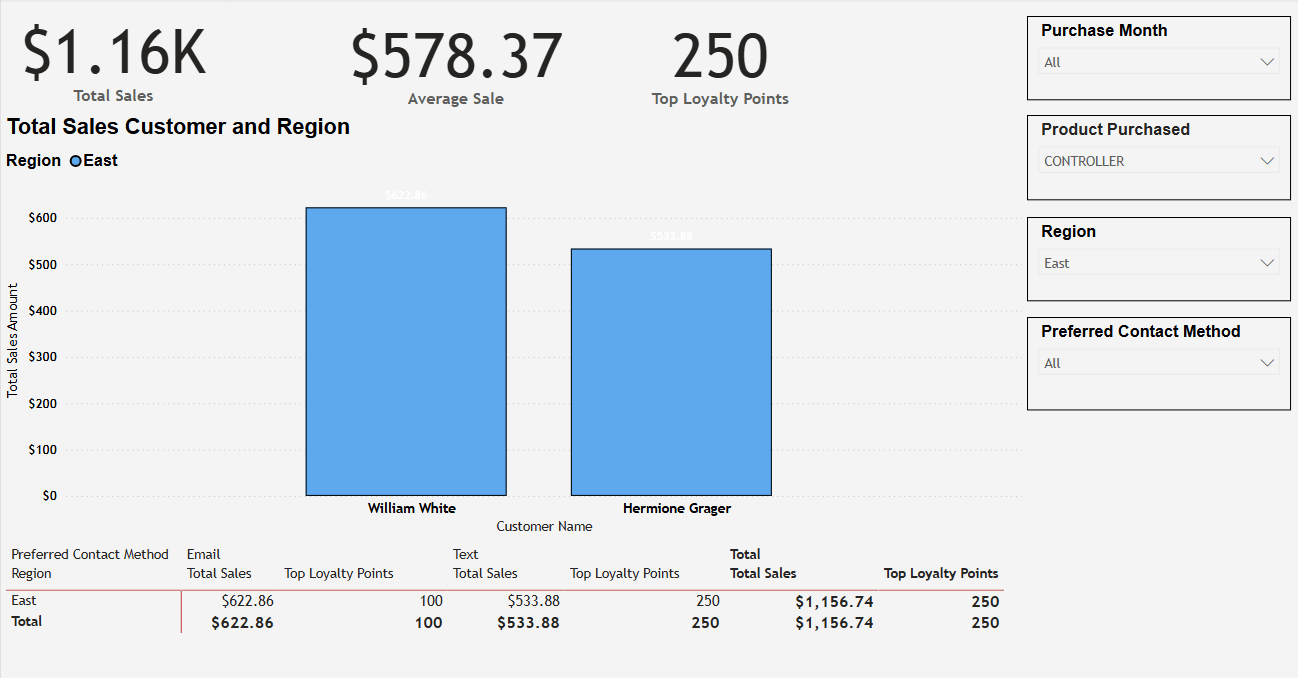

What the dashboard file says about the page in this screenshot:
{"tool":"powerbi","page":{"name":"Total Sales By Customer and Region","canvas":[1280,720],"ordinal":0},"visuals":[{"type":"columnChart","title":"Total Sales Customer and Region","fields":{"Category":["customer.name"],"Y":["sale.Total Sales"],"Series":["customer.region"]},"box":[0,115.2,1010.2,418.5],"z":0},{"type":"slicer","fields":{"Values":["sale.Month"]},"box":[1010.2,17.7,259.9,82.7],"z":1000},{"type":"slicer","fields":{"Values":["customer.region"]},"box":[1010.2,215.6,259.9,82.7],"z":2000},{"type":"slicer","fields":{"Values":["customer.preferred_contact_method"]},"box":[1010.2,314.1,259.9,91.6],"z":3000},{"type":"card","fields":{"Values":["sale.Total Sales"]},"box":[0,0,221.5,115.2],"z":4000},{"type":"card","fields":{"Values":["sale.Average Sale"]},"box":[320,0,256,122.1],"z":5000},{"type":"card","fields":{"Values":["customer.Top Loyalty Points"]},"box":[594.7,0,227.4,122.1],"z":6000},{"type":"pivotTable","fields":{"Rows":["customer.region"],"Columns":["customer.preferred_contact_method"],"Values":["sale.Total Sales","customer.Top Loyalty Points"]},"box":[0,533.7,1280,187.1],"z":7000},{"type":"slicer","fields":{"Values":["product.product_name"]},"box":[1010.2,115.2,259.9,83.7],"z":8000}]}

Visuals, with their boxes on the page's 1280x720 design canvas (x1, y1, x2, y2). These are canvas units, not pixel positions in the 1298x678 screenshot, which may show the page scaled, cropped or inside an application window:
"Total Sales Customer and Region" columnChart: box=[0, 115, 1010, 534]
slicer - sale.Month: box=[1010, 18, 1270, 100]
slicer - customer.region: box=[1010, 216, 1270, 298]
slicer - customer.preferred_contact_method: box=[1010, 314, 1270, 406]
card - sale.Total Sales: box=[0, 0, 222, 115]
card - sale.Average Sale: box=[320, 0, 576, 122]
card - customer.Top Loyalty Points: box=[595, 0, 822, 122]
pivotTable - customer.region x customer.preferred_contact_method: box=[0, 534, 1280, 721]
slicer - product.product_name: box=[1010, 115, 1270, 199]
